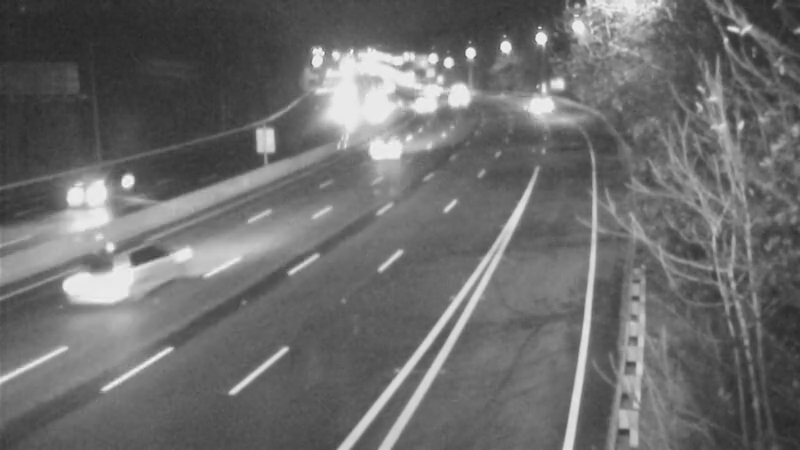vehicle: (61, 242, 141, 322), (45, 156, 125, 236), (409, 68, 459, 118), (429, 75, 479, 125), (512, 81, 562, 131), (395, 79, 445, 129), (355, 123, 405, 173), (344, 75, 394, 125), (318, 83, 368, 133)
